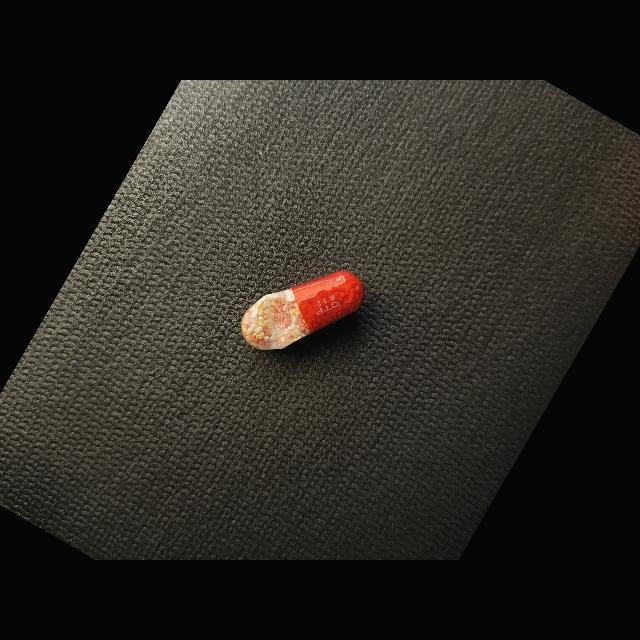Defective Capsule: (241, 271, 365, 350)
